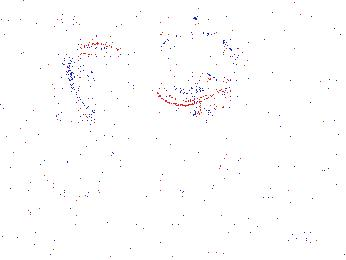moon jellyfish: (149, 34, 237, 107), (69, 44, 137, 116), (240, 48, 329, 82)
